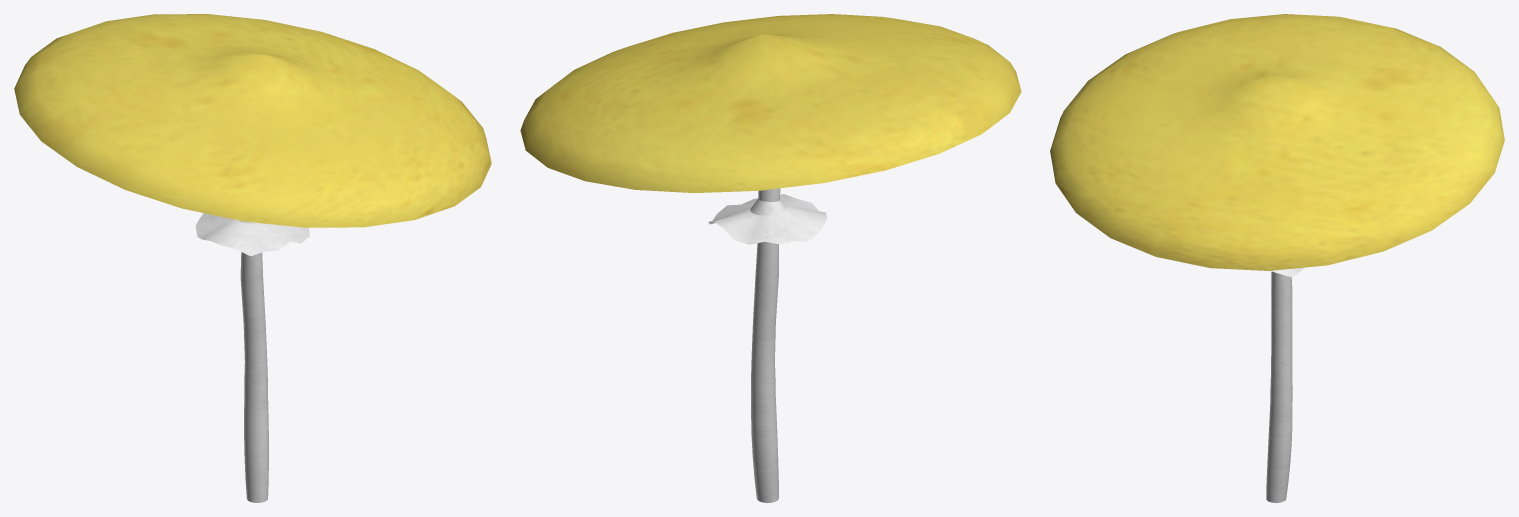
Rendered from Mushroom_Large_03.fbx.
3 renders of one model, left to right at view 1: azimuth 30°, elevation 25°; view 2: azimuth 150°, elevation 25°; view 3: azimuth 270°, elevation 25°, orthographic. The views are drawn at different scales.
Parts seen in each view (by area): view 1: mushroom_Large_03; view 2: mushroom_Large_03; view 3: mushroom_Large_03.
Part boxes in pixels (<box>): mushroom_Large_03: <box>14,14,491,502</box>; mushroom_Large_03: <box>520,14,1021,502</box>; mushroom_Large_03: <box>1050,14,1504,502</box>.
Size of the model in its own units: 5828 by 5897 by 5774.
